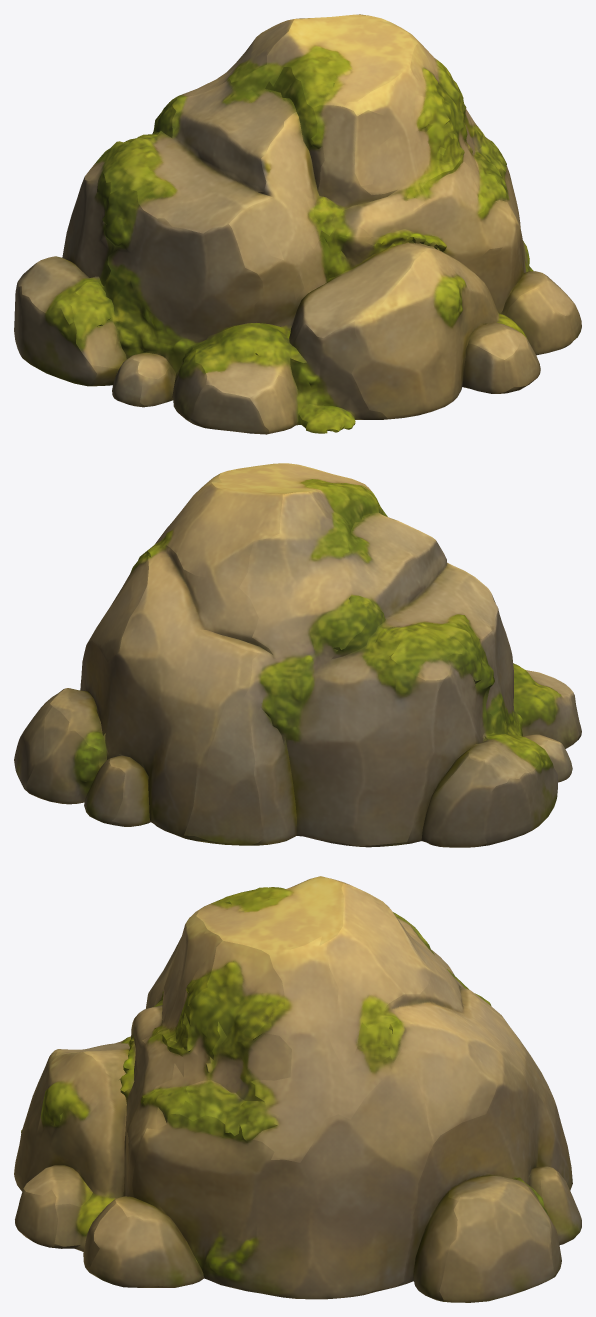
The picture shows the model from 3 angles, top to bottom: view 1: azimuth 30°, elevation 25°; view 2: azimuth 150°, elevation 25°; view 3: azimuth 270°, elevation 25°; orthographic projection. The views are drawn at different scales.
Parts seen in each view (by area): view 1: world; view 2: world; view 3: world.
Part boxes in pixels (x1,y1,x2,y2): world: [14, 14, 581, 434]; world: [14, 463, 581, 847]; world: [14, 876, 581, 1302].
Bounding box in the file's own units: 0.8 × 0.4469 × 0.7492.
Materials: 1 (1 with a texture image).
